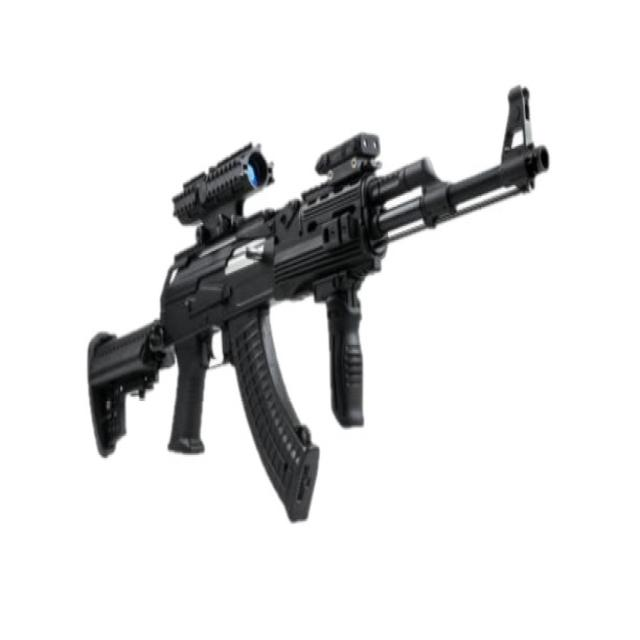rifle: (82, 68, 569, 535)
